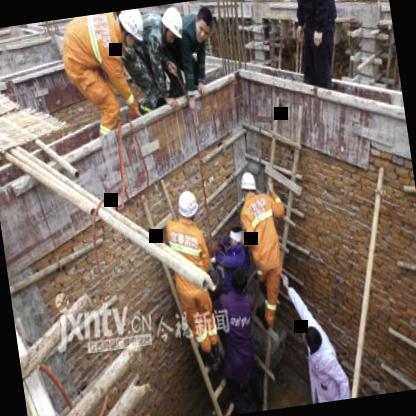helmet: (113, 7, 148, 50), (156, 3, 185, 46), (173, 186, 200, 224), (235, 168, 258, 201)
